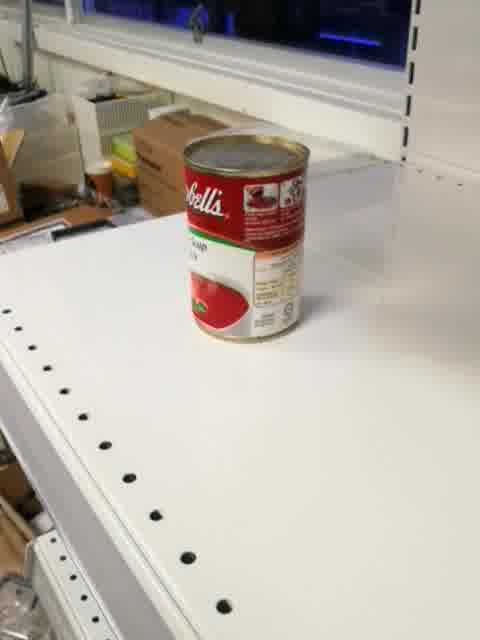tomatosoup: (182, 131, 311, 349)
